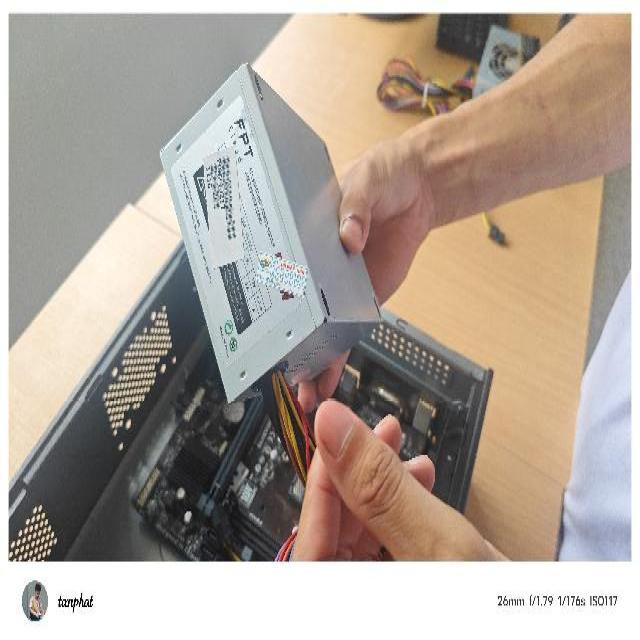PSU: (155, 56, 386, 407)
